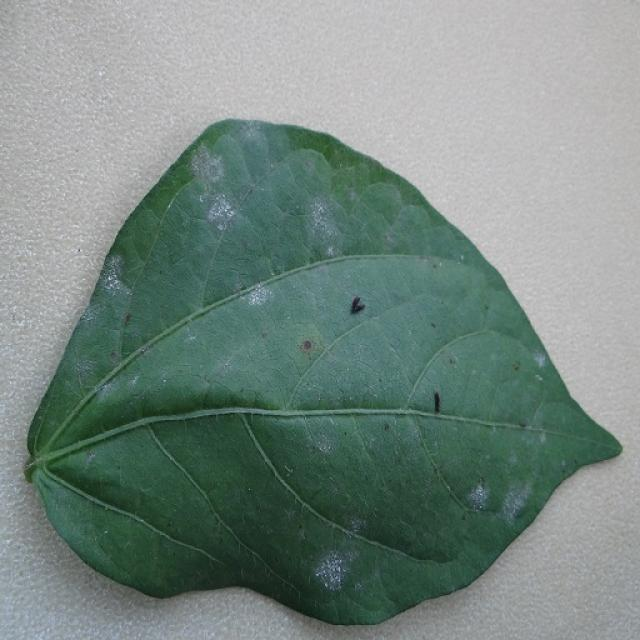Blackgram: (26, 120, 621, 624)
Powdery_Mildew: (166, 148, 407, 346), (186, 142, 278, 253), (194, 317, 286, 399), (192, 149, 239, 240), (87, 351, 147, 407), (314, 549, 353, 590), (306, 199, 339, 245), (193, 145, 226, 184), (306, 422, 339, 455), (500, 484, 530, 520), (95, 376, 124, 404), (100, 264, 124, 295), (466, 482, 490, 510), (246, 284, 273, 308), (314, 436, 332, 454), (348, 516, 366, 534), (283, 506, 299, 524), (533, 351, 547, 368), (128, 375, 141, 389), (85, 450, 97, 465), (346, 188, 358, 203), (185, 330, 197, 343), (384, 232, 395, 245), (539, 431, 547, 444), (534, 374, 543, 381)
